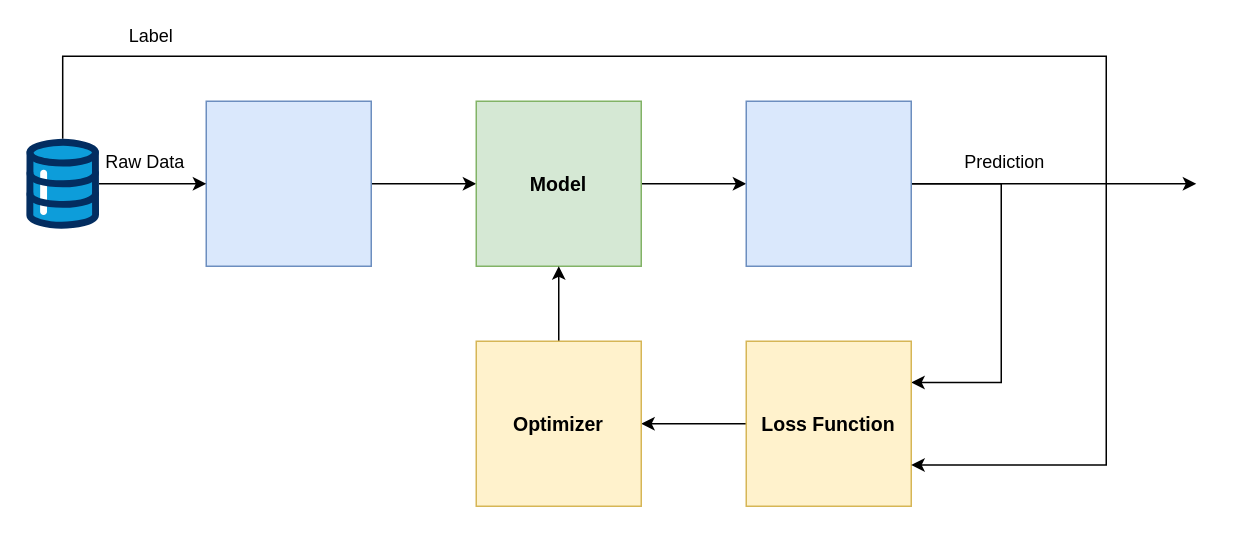
This 1235x533 diagram has some shape labels left out. The centre of each missing label's shape, as x and y in pixels:
Post-processing module: (828,183)
Pre-processing Module: (288,183)
